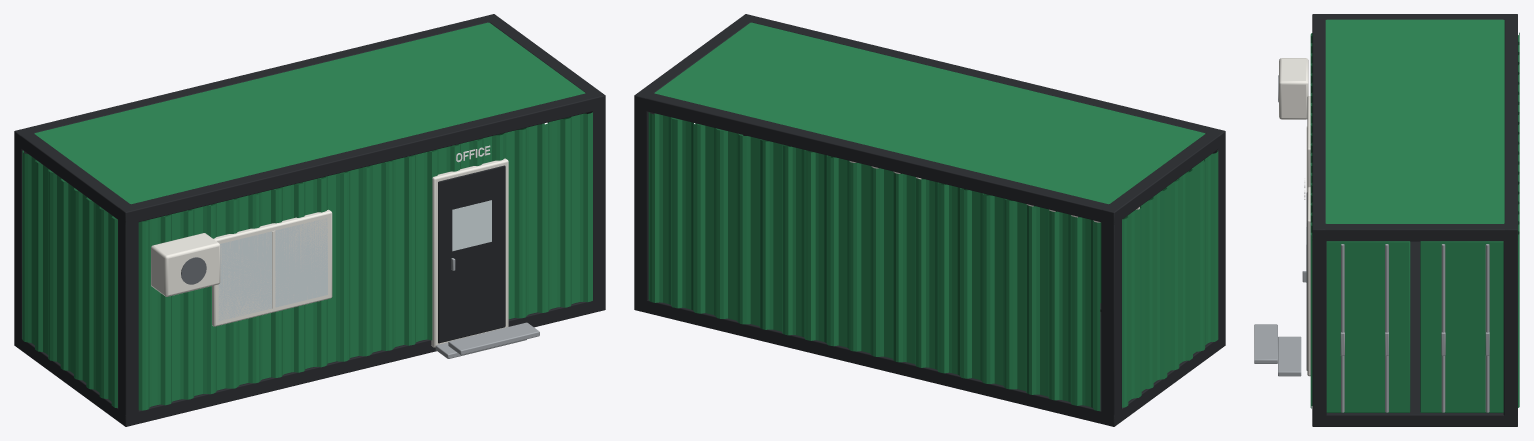
The model's file is container_office.fbx.
3 views of the same model, side by side, from view 1: azimuth 30°, elevation 25°; view 2: azimuth 150°, elevation 25°; view 3: azimuth 270°, elevation 25° (orthographic). The views are drawn at different scales.
Parts seen in each view (by area): view 1: container_office; view 2: container_office; view 3: container_office.
Boxes of the visible parts, x1=… form: container_office: x1=14, y1=14, x2=605, y2=426; container_office: x1=634, y1=14, x2=1225, y2=426; container_office: x1=1254, y1=14, x2=1519, y2=426.
Bounding box in the file's own units: 6.12 × 2.59 × 3.15.
